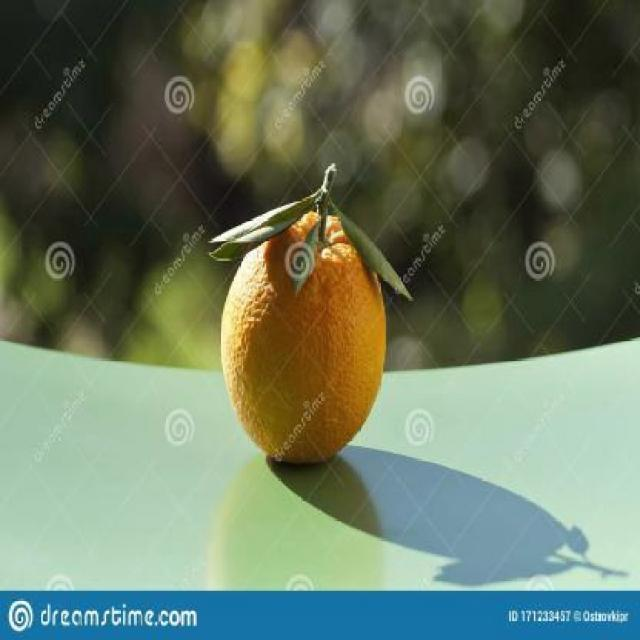Jeruk Sudah Matang: (223, 204, 389, 466)
